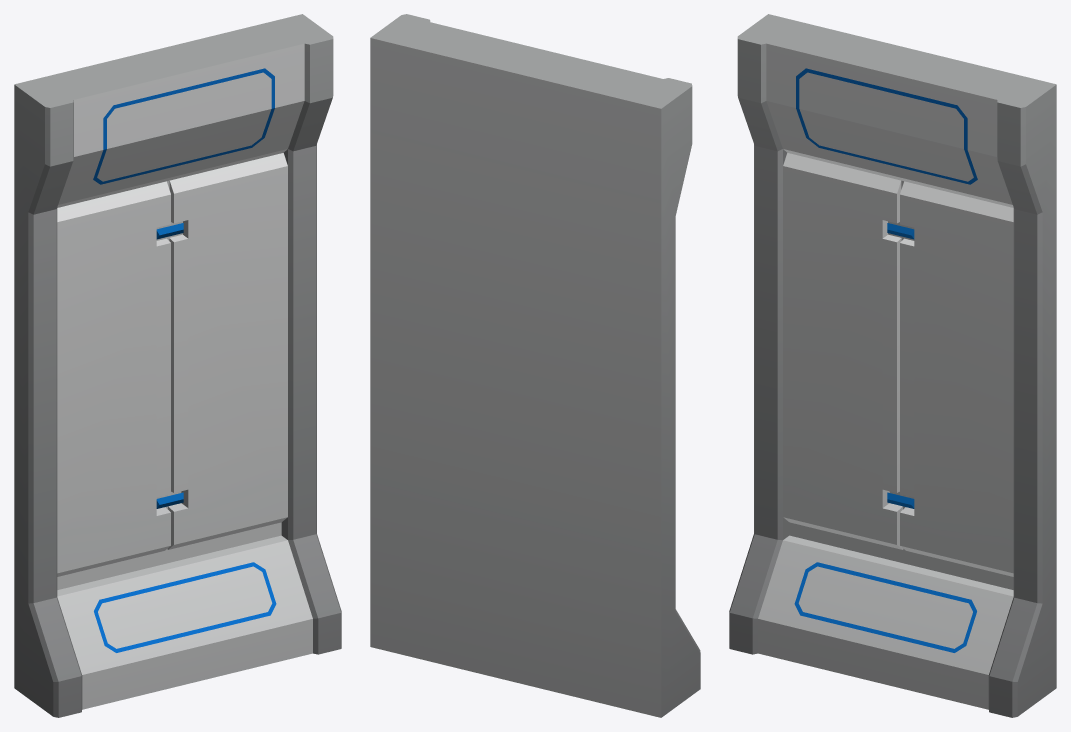
The model's file is Wall_type_A_007.fbx.
3 renders of one model, left to right at view 1: azimuth 30°, elevation 25°; view 2: azimuth 150°, elevation 25°; view 3: azimuth 330°, elevation 25°, orthographic.
Parts seen in each view (by area): view 1: Wall_type_A_007; view 2: Wall_type_A_007; view 3: Wall_type_A_007.
Part boxes in pixels (x1=…): Wall_type_A_007: x1=14, y1=14, x2=341, y2=717; Wall_type_A_007: x1=370, y1=14, x2=700, y2=717; Wall_type_A_007: x1=729, y1=14, x2=1056, y2=717.
Bounding box in the file's own units: 200 × 50 × 400.
